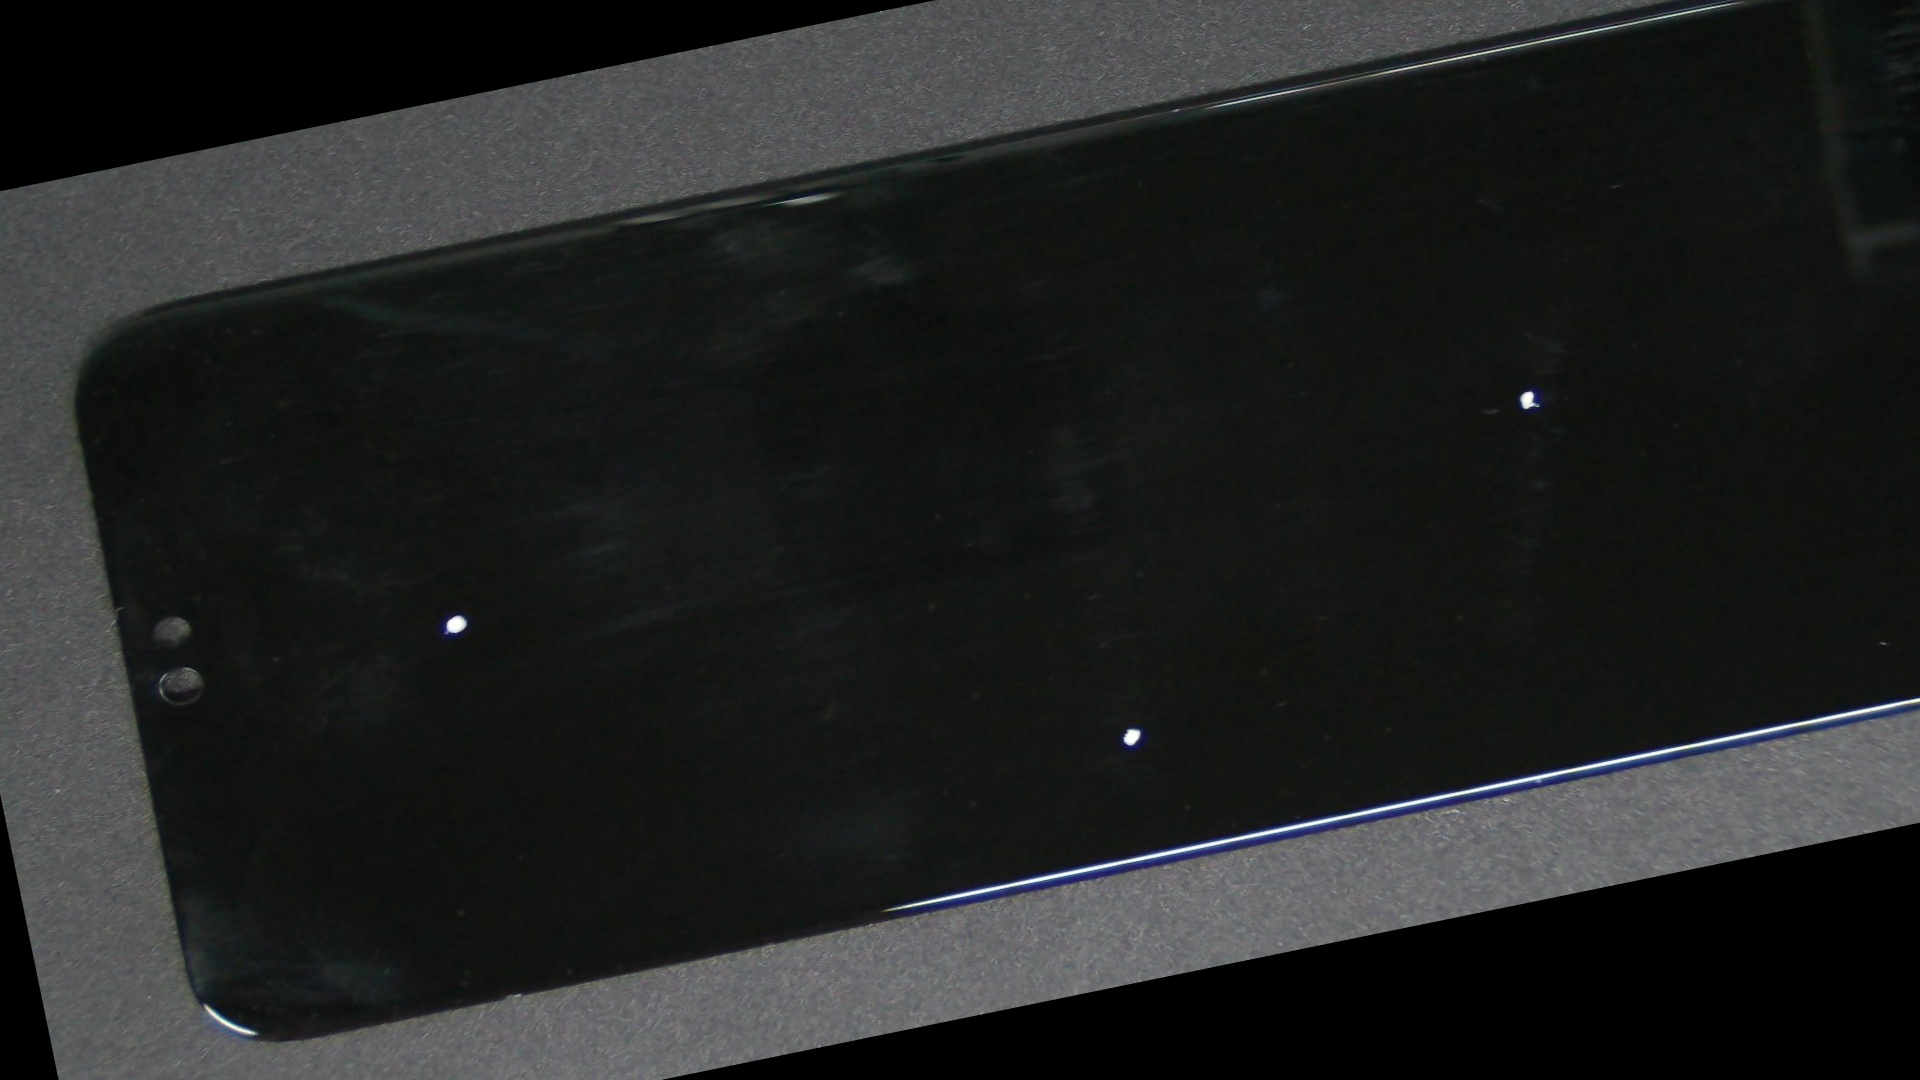oil: (506, 247, 1729, 1080), (704, 25, 1920, 794), (170, 318, 745, 911)
